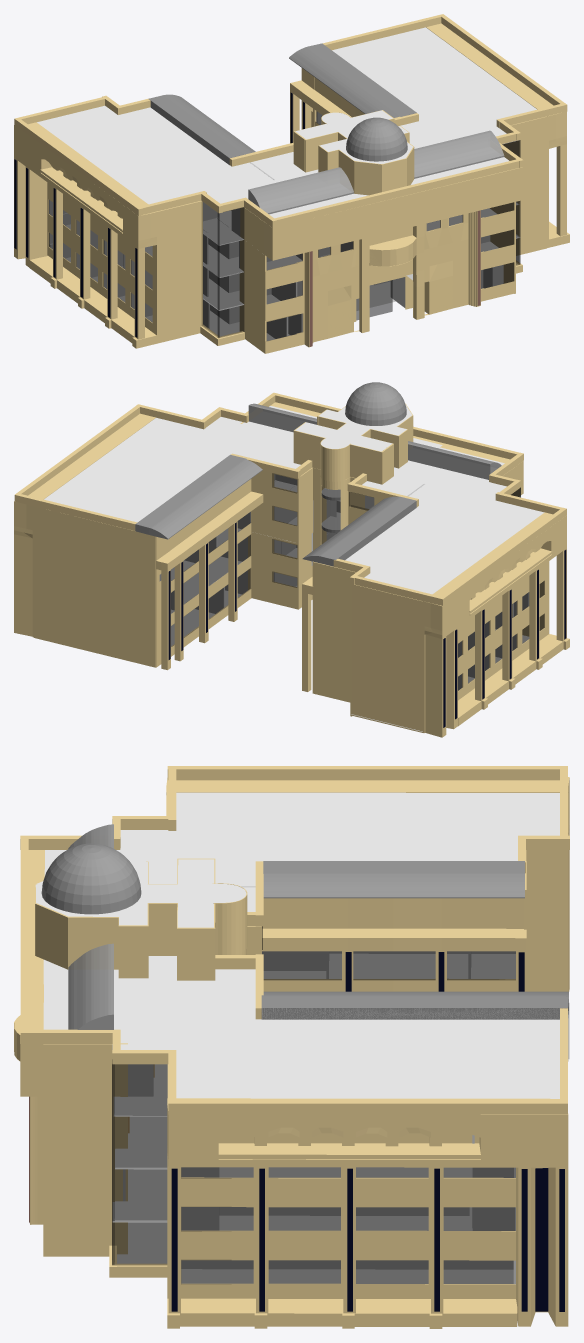
3 renders of one model, top to bottom at view 1: azimuth 30°, elevation 25°; view 2: azimuth 150°, elevation 25°; view 3: azimuth 270°, elevation 25°, orthographic. The views are drawn at different scales.
Visible parts, largest first — view 1: Front Building.001, Cube.323, Plane.250, Plane.247, Cube.324, Cube.312, Cube.313, Plane.246, Plane.249, Cube.668, Cube.326, Cube.327 (+35 smaller); view 2: Cube.323, Cube.316, Cube.322, Plane.250, Plane.247, Cube.317, Cube.306, Cube.320, Plane.246, Cube.313, Cube.668, Plane.249 (+35 smaller); view 3: Cube.313, Plane.250, Plane.247, Cube.319, Cube.309, Plane.246, Cube.311, Cube.667, Cube.668, Cube.728, Plane.249, Plane.242 (+61 smaller).
Boxes of the visible parts, bbox=[...] form: Front Building.001: bbox=[264, 167, 522, 353]; Cube.323: bbox=[14, 122, 158, 348]; Plane.250: bbox=[37, 105, 229, 204]; Plane.247: bbox=[355, 27, 536, 124]; Cube.324: bbox=[158, 200, 202, 343]; Cube.312: bbox=[502, 116, 547, 255]; Cube.313: bbox=[426, 23, 569, 247]; Plane.246: bbox=[332, 44, 482, 145]; Plane.249: bbox=[122, 107, 279, 199]; Cube.668: bbox=[289, 43, 416, 117]; Cube.326: bbox=[218, 207, 244, 337]; Cube.327: bbox=[239, 207, 265, 353]; Cube.323: bbox=[423, 512, 569, 737]; Cube.316: bbox=[34, 506, 155, 667]; Cube.322: bbox=[351, 584, 422, 732]; Plane.250: bbox=[364, 493, 544, 594]; Plane.247: bbox=[44, 417, 228, 516]; Cube.317: bbox=[170, 479, 263, 661]; Cube.306: bbox=[248, 470, 298, 609]; Cube.320: bbox=[312, 561, 355, 702]; Plane.246: bbox=[101, 431, 277, 522]; Cube.313: bbox=[14, 413, 155, 637]; Cube.668: bbox=[135, 454, 262, 539]; Plane.249: bbox=[345, 471, 484, 571]; Cube.313: bbox=[167, 1098, 568, 1328]; Plane.250: bbox=[168, 792, 559, 849]; Plane.247: bbox=[168, 1043, 559, 1098]; Cube.319: bbox=[262, 898, 526, 991]; Cube.309: bbox=[43, 1043, 127, 1256]; Plane.246: bbox=[171, 1004, 559, 1054]; Cube.311: bbox=[112, 1064, 167, 1265]; Cube.667: bbox=[263, 861, 524, 898]; Cube.668: bbox=[261, 991, 568, 1019]; Cube.728: bbox=[262, 951, 515, 980]; Plane.249: bbox=[123, 847, 517, 888]; Plane.242: bbox=[115, 850, 196, 1044].
Bounding box in the file's own units: 623 × 265 × 428.
